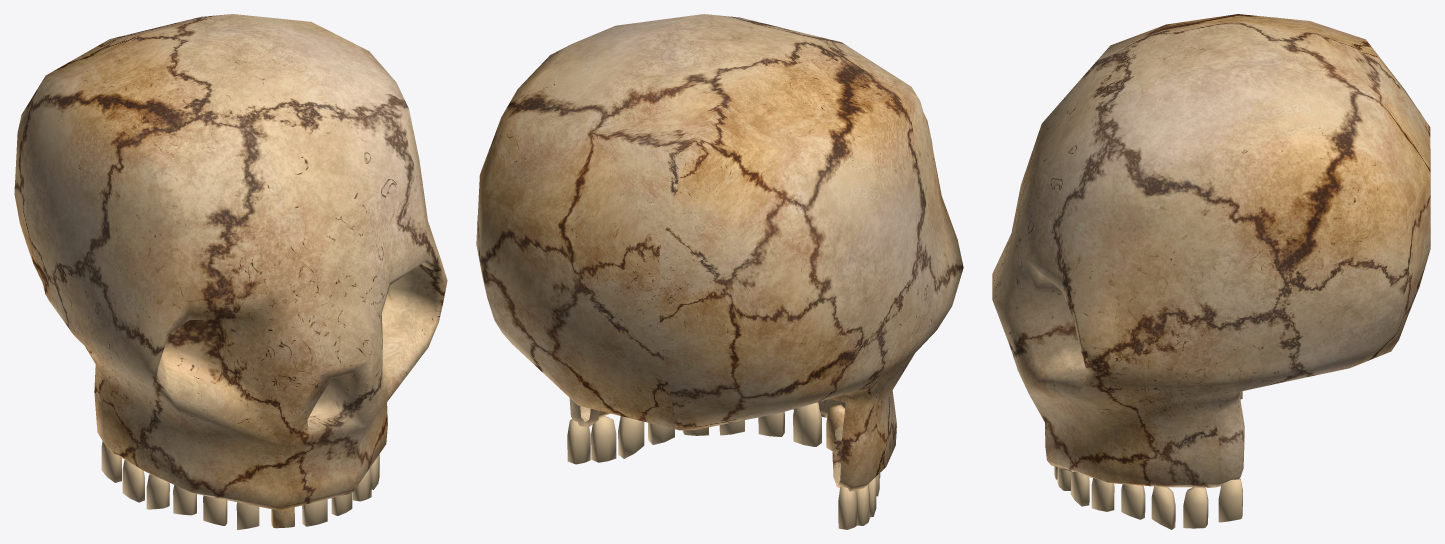
Rendered from Calavera.fbx.
3 renders of one model, left to right at view 1: azimuth 30°, elevation 25°; view 2: azimuth 150°, elevation 25°; view 3: azimuth 270°, elevation 25°, orthographic. The views are drawn at different scales.
Visible parts, largest first — view 1: Cube.002; view 2: Cube.002; view 3: Cube.002.
Boxes of the visible parts, x1,y1,x2,y2 form: Cube.002: [14, 14, 447, 529]; Cube.002: [476, 14, 963, 529]; Cube.002: [992, 14, 1430, 529].
Size of the model in its own units: 221 by 264 by 246.
